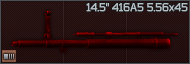HK 416A5 5.56x45 14.5 inch barrel: (0, 0, 190, 64)
